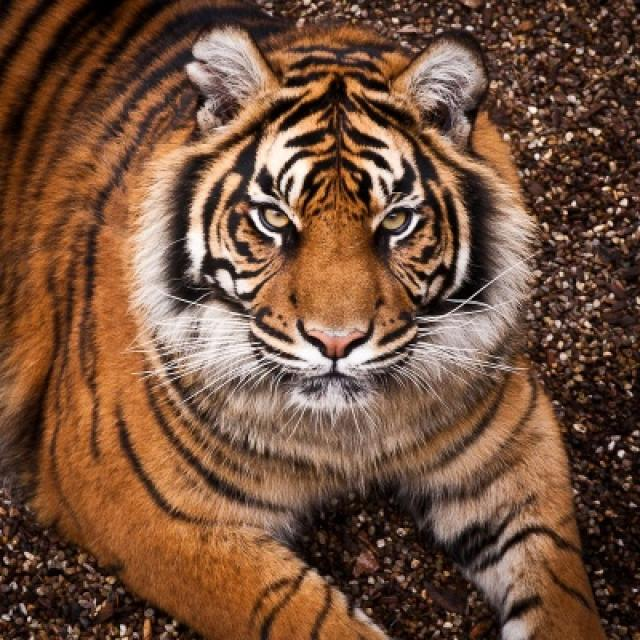Tiger: (4, 4, 601, 638)
